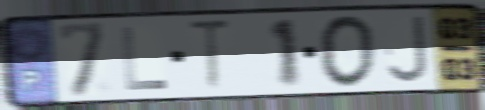1: (266, 16, 302, 91)
7: (56, 21, 109, 101)
J: (384, 13, 432, 86)
L: (118, 25, 170, 93)
O: (316, 13, 379, 90)
T: (185, 18, 235, 94)
